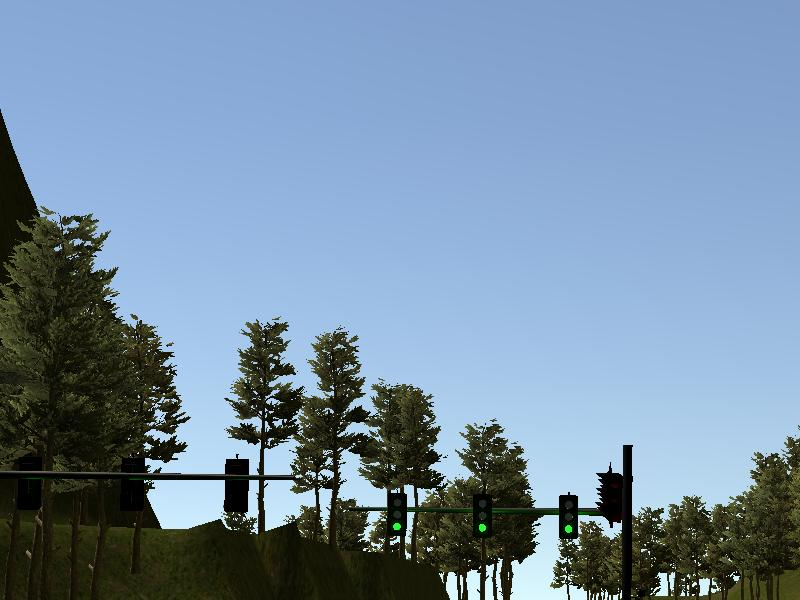Green: (558, 496, 578, 539), (386, 495, 405, 537), (474, 496, 491, 538)
